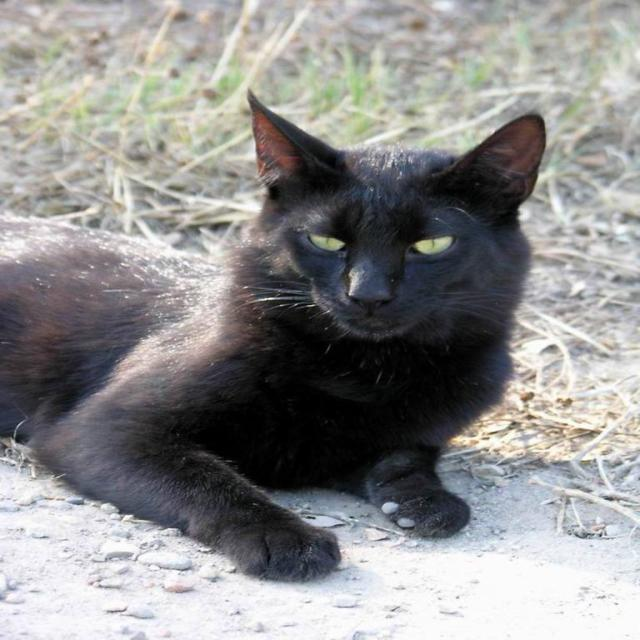Cat: (0, 87, 547, 582)
